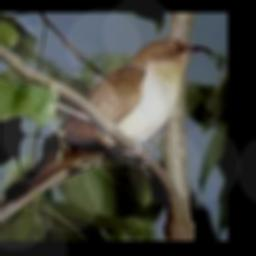Cuckoo: (0, 38, 213, 225)
